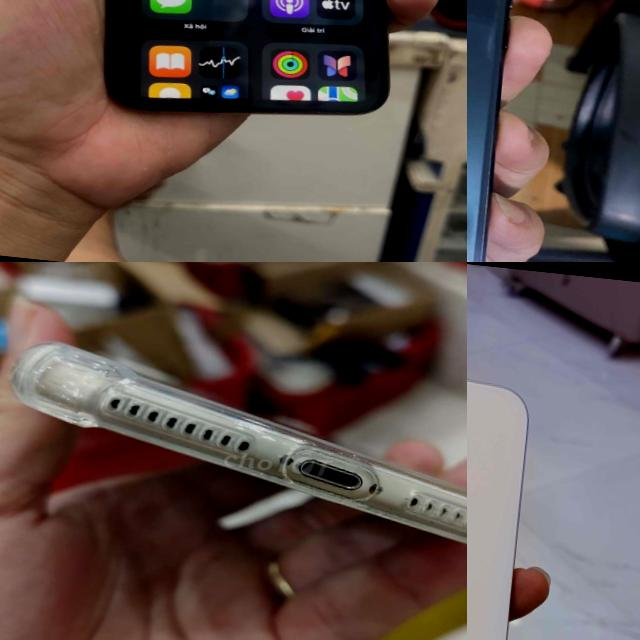scratch: (480, 0, 510, 71)
